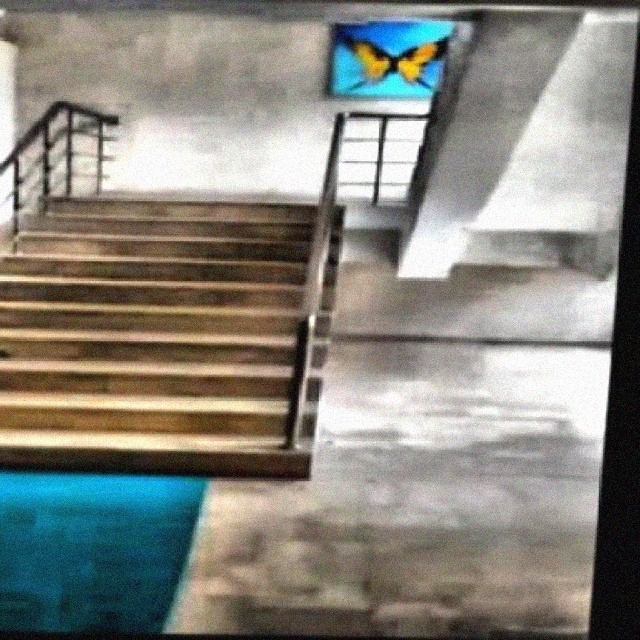stair: (2, 199, 346, 483)
